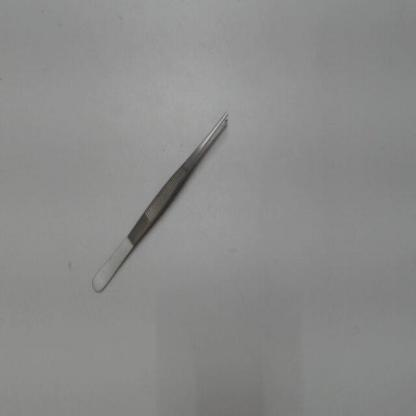Gillies Toothed Dissector: (80, 100, 242, 306)
